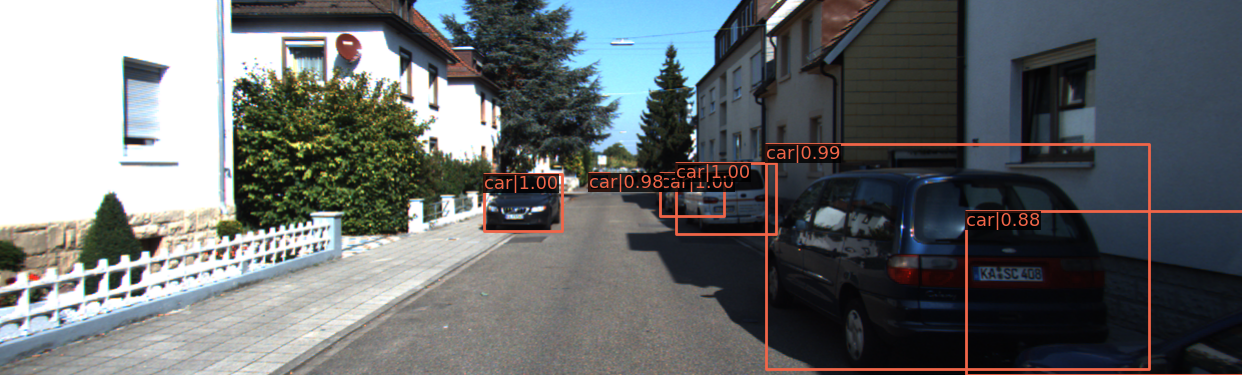car: (986, 227, 1242, 375), (486, 177, 559, 234), (664, 177, 716, 220)
